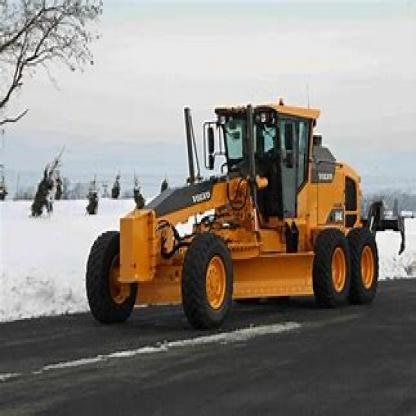bull_dozer/loader/grader: (78, 91, 400, 327)
